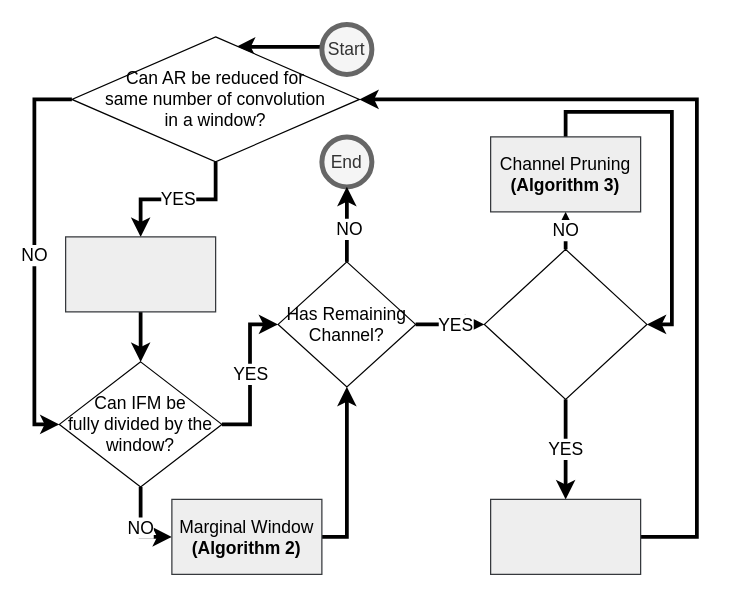
This 730x596 diagram has some shape labels left out. Each missing label, with the centre of its shape:
"Can the CIM process all remaining channels?" belongs at point 565,323.
"Depth-Optimal Window (Algorithm 3)" belongs at point 565,536.
"Square-Inclined Window (Algorithm 1)" belongs at point 140,274.
